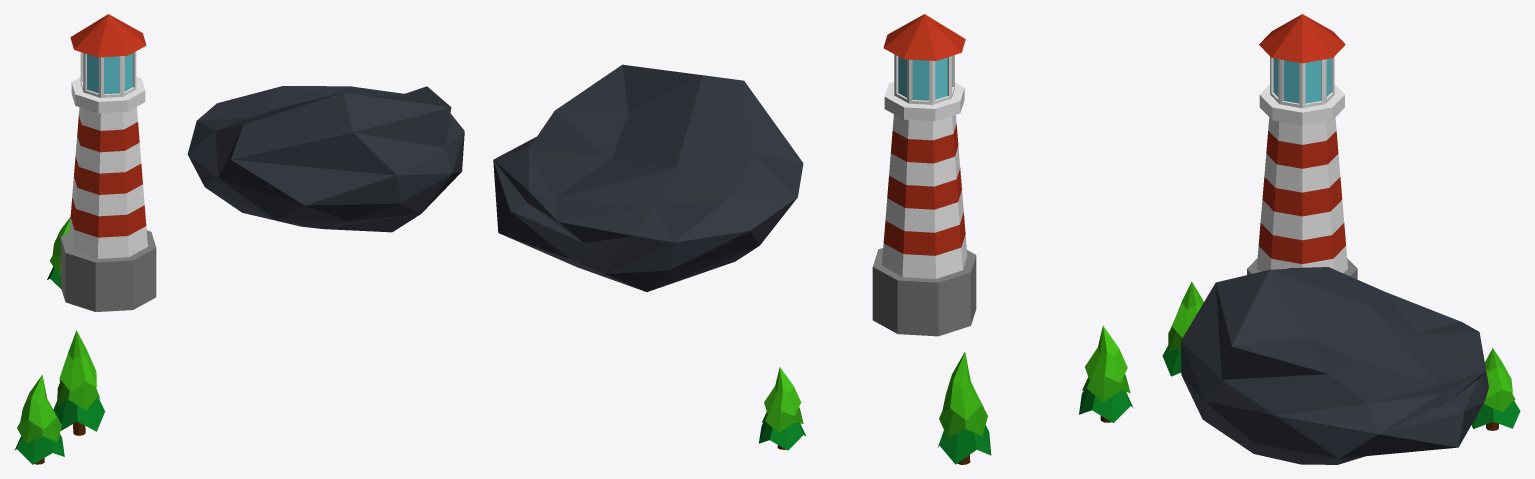
Rendered from uploads_files_4843977_Lighthouse_assets.fbx.
The picture shows the model from 3 angles, left to right: view 1: azimuth 30°, elevation 25°; view 2: azimuth 150°, elevation 25°; view 3: azimuth 270°, elevation 25°; orthographic projection. The views are drawn at different scales.
Visible parts, largest first — view 1: land, Lighthouse, Tree1, Tree, Tree2; view 2: land, Lighthouse, Tree1, Tree, Tree2; view 3: land, Lighthouse, Tree2, Tree.
Boxes of the visible parts, <box> form: land: <box>187,86,464,232</box>; Lighthouse: <box>60,14,156,311</box>; Tree1: <box>53,330,104,435</box>; Tree: <box>14,374,64,464</box>; Tree2: <box>47,217,70,289</box>; land: <box>493,64,803,291</box>; Lighthouse: <box>872,14,976,336</box>; Tree1: <box>938,351,991,464</box>; Tree: <box>1079,326,1133,422</box>; Tree2: <box>758,367,805,450</box>; land: <box>1181,267,1488,464</box>; Lighthouse: <box>1247,14,1357,279</box>; Tree2: <box>1471,348,1520,430</box>; Tree: <box>1162,281,1203,376</box>.
Size of the model in its own units: 1178 by 910 by 647.
